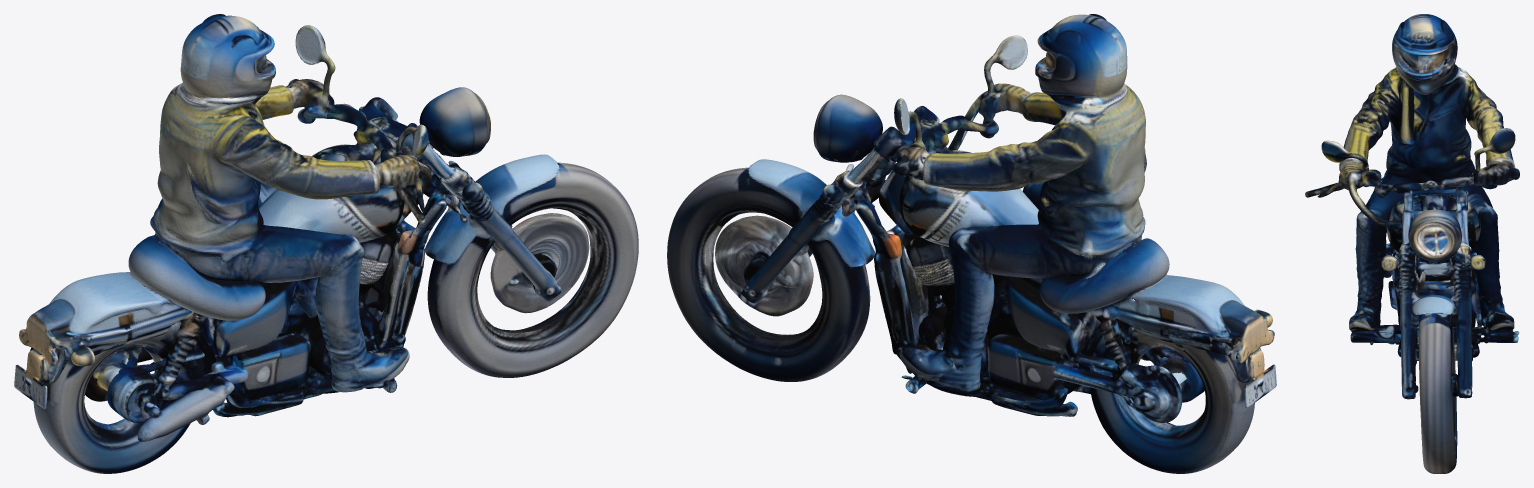
3 renders of one model, left to right at view 1: azimuth 30°, elevation 25°; view 2: azimuth 150°, elevation 25°; view 3: azimuth 270°, elevation 25°, orthographic. The views are drawn at different scales.
Parts seen in each view (by area): view 1: tripo_node_57317425-041a-45d5-9f17-991d55c5b164; view 2: tripo_node_57317425-041a-45d5-9f17-991d55c5b164; view 3: tripo_node_57317425-041a-45d5-9f17-991d55c5b164.
Boxes of the visible parts, <box> form: tripo_node_57317425-041a-45d5-9f17-991d55c5b164: <box>14,14,638,473</box>; tripo_node_57317425-041a-45d5-9f17-991d55c5b164: <box>667,14,1276,473</box>; tripo_node_57317425-041a-45d5-9f17-991d55c5b164: <box>1305,14,1519,473</box>.
Size of the model in its own units: 100 by 68.58 by 40.21.
